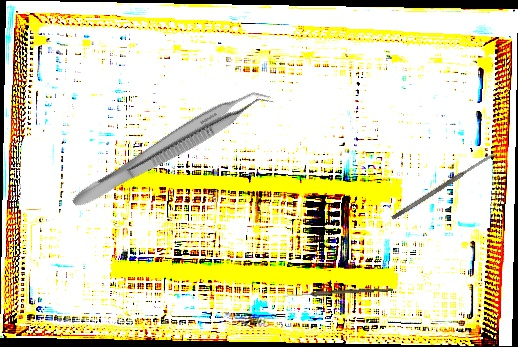Spatula Surgical: (390, 151, 498, 221)
Surgical Spoon: (282, 286, 394, 299)
Tissue Forceps: (68, 77, 275, 221)
